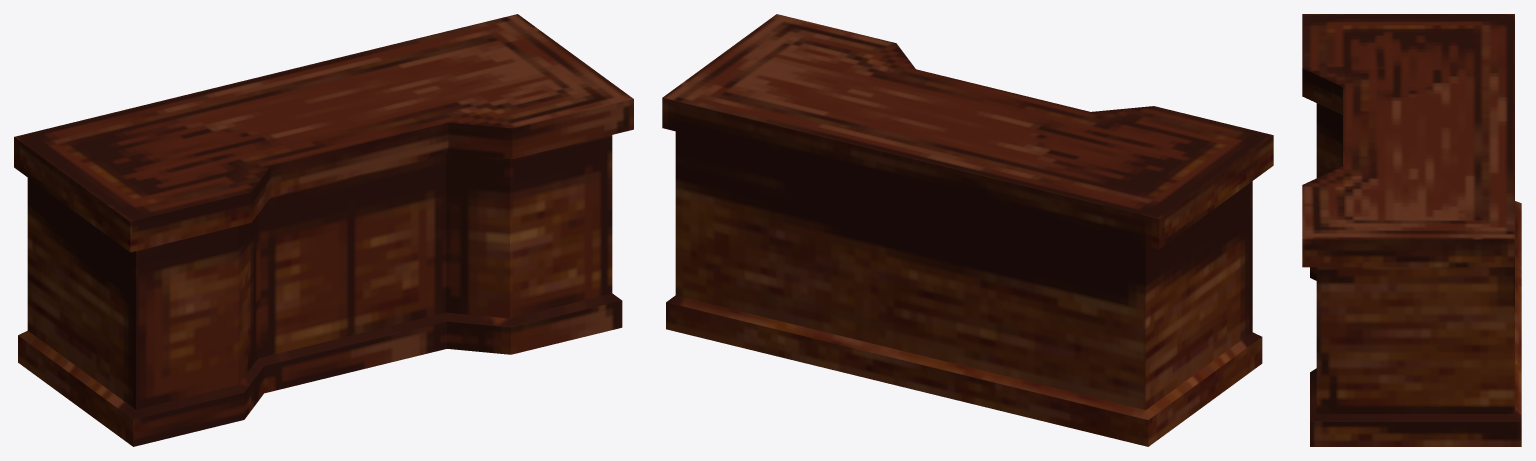
The model's file is chapelaltar2.glb.
3 renders of one model, left to right at view 1: azimuth 30°, elevation 25°; view 2: azimuth 150°, elevation 25°; view 3: azimuth 270°, elevation 25°, orthographic. The views are drawn at different scales.
Visible parts, largest first — view 1: altarzao_02_geo; view 2: altarzao_02_geo; view 3: altarzao_02_geo.
Boxes of the visible parts, box(x1,y1,x2,y2) form: altarzao_02_geo: box(14, 14, 633, 446); altarzao_02_geo: box(662, 14, 1273, 446); altarzao_02_geo: box(1302, 14, 1521, 446).
Size of the model in its own units: 3.13 by 1.37 by 1.29.
Materials: 1 (1 with a texture image).
